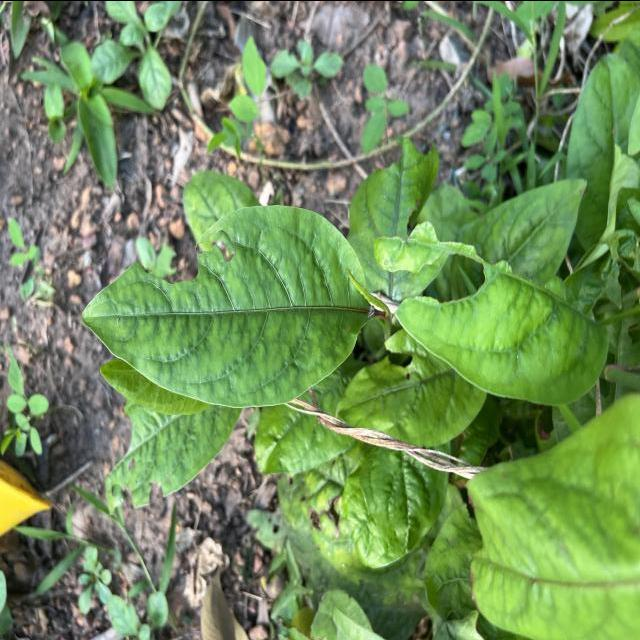Plumbago indica: (72, 198, 376, 413)
